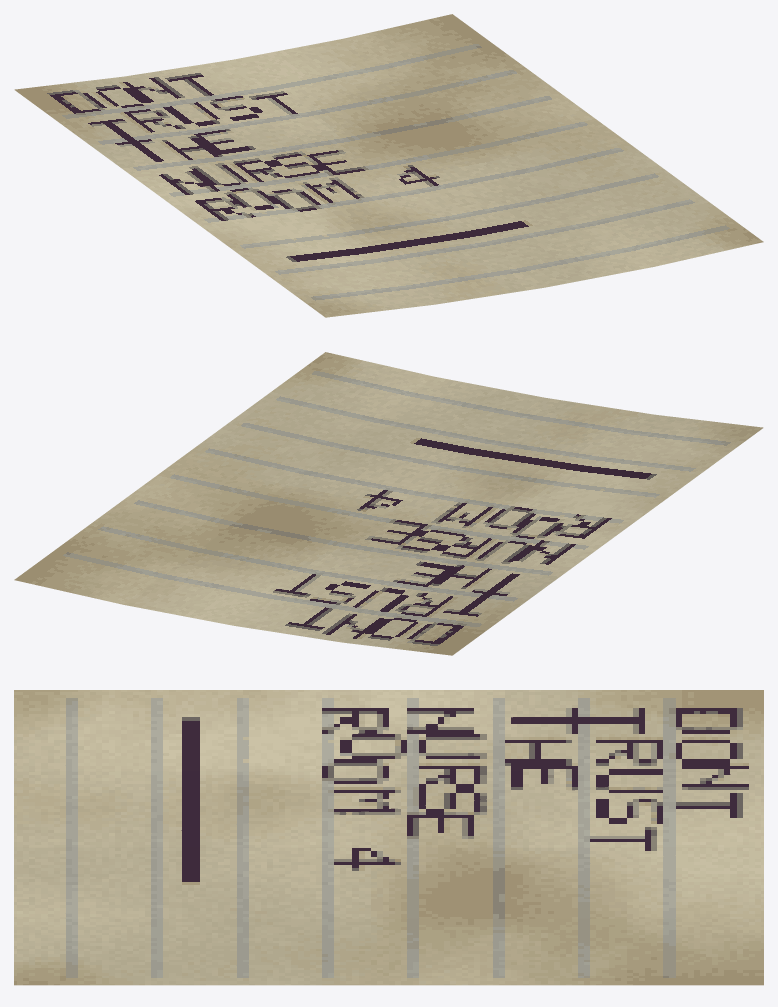
3 renders of one model, top to bottom at view 1: azimuth 30°, elevation 25°; view 2: azimuth 150°, elevation 25°; view 3: azimuth 270°, elevation 25°, orthographic. The views are drawn at different scales.
Parts seen in each view (by area): view 1: px_fp_note; view 2: px_fp_note; view 3: px_fp_note.
Boxes of the visible parts, bbox=[...] form: px_fp_note: bbox=[14, 14, 763, 317]; px_fp_note: bbox=[14, 352, 763, 655]; px_fp_note: bbox=[14, 690, 763, 985].
Bounding box in the file's own units: 0.117 × 0.0096 × 0.144.
1 material, 1 textured.
